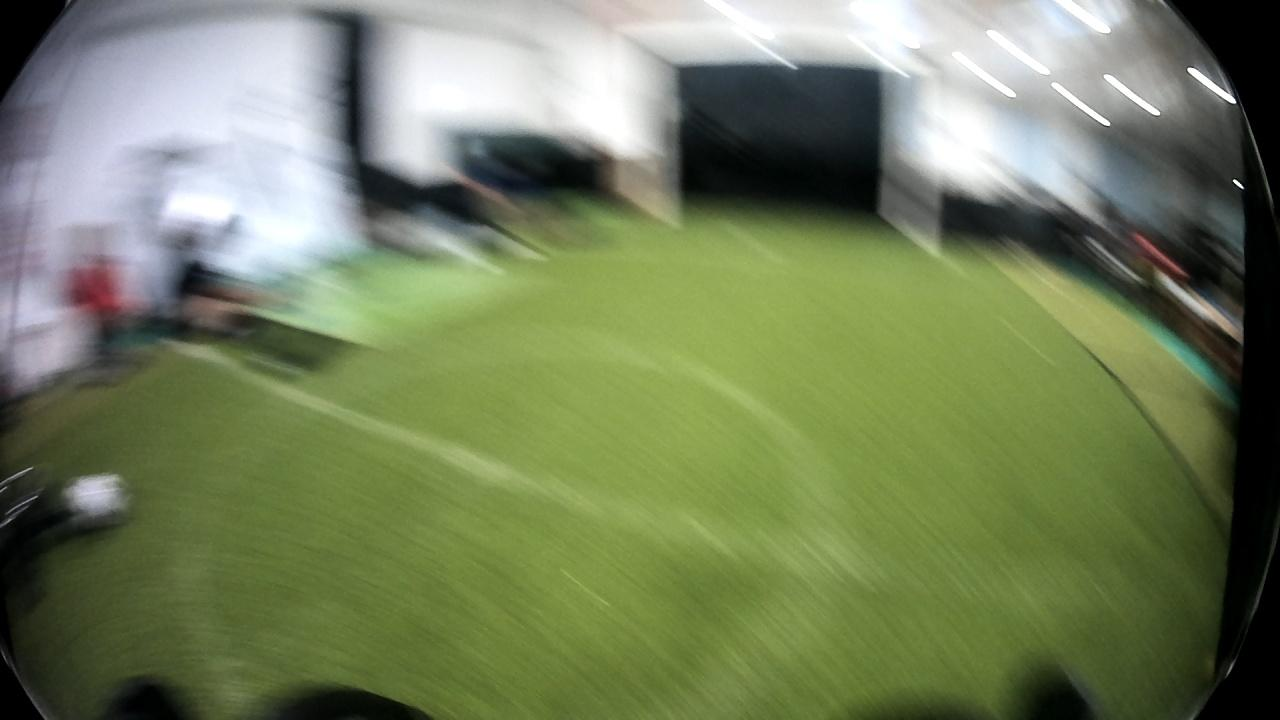ball: (59, 470, 136, 534)
